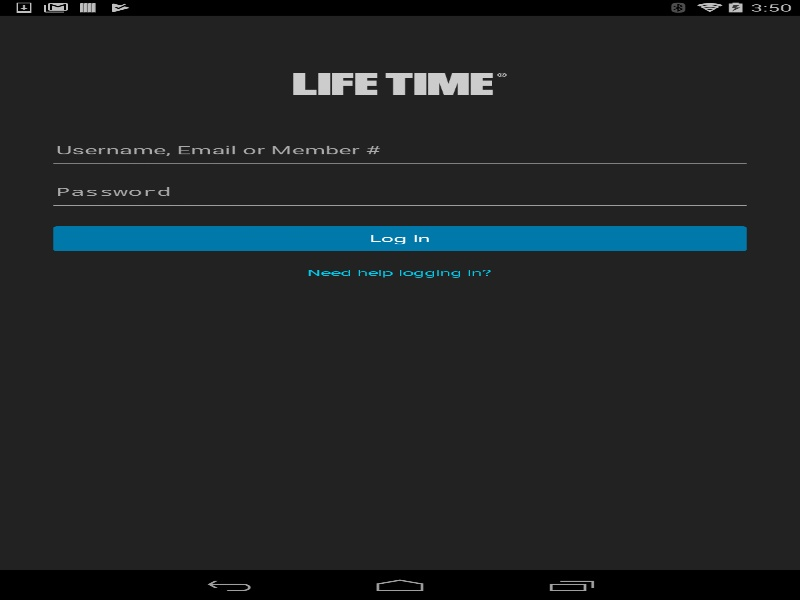Input: (48, 140, 752, 169), (48, 182, 752, 210)
